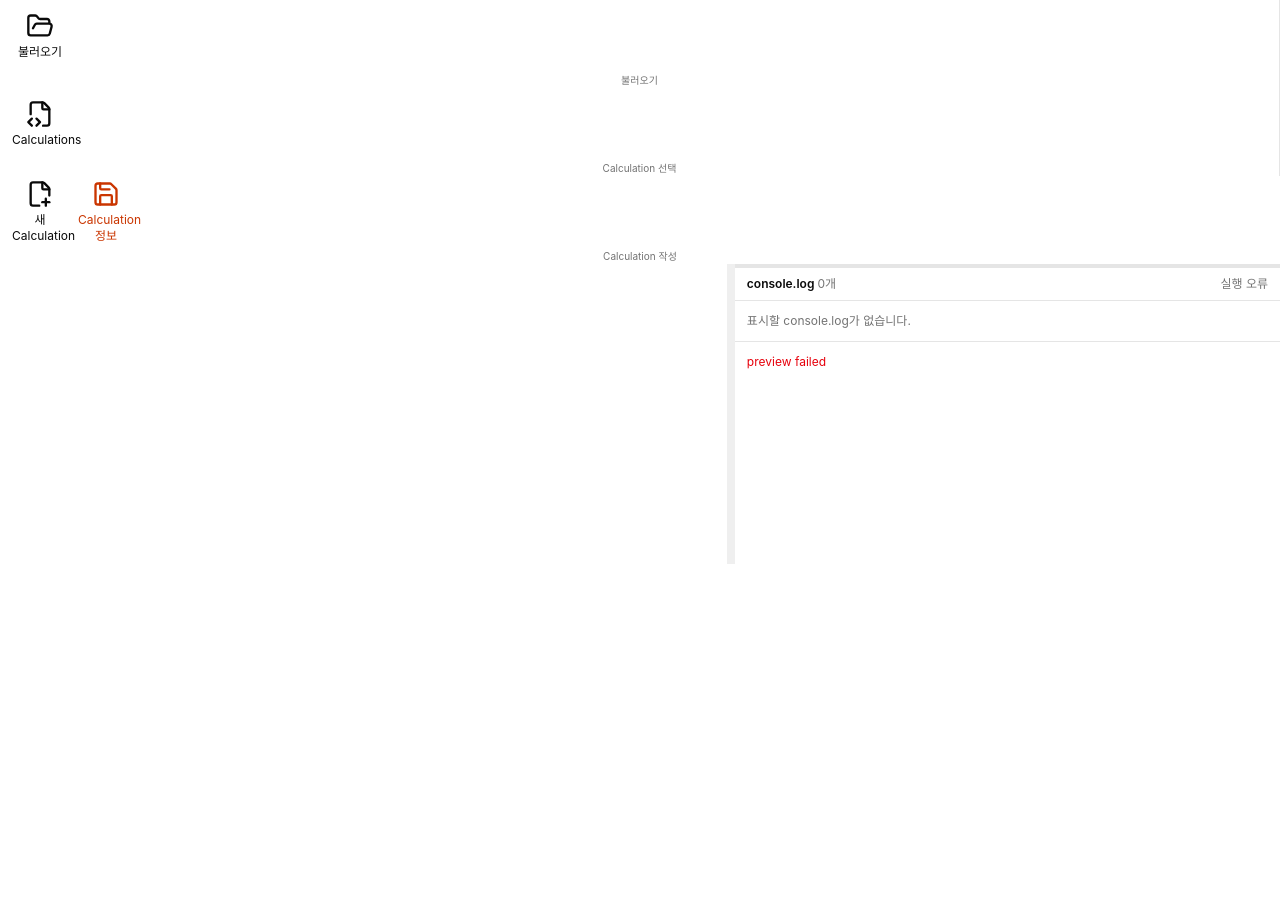
Test case: updates existing metadata without a successful preview and preserves form values on failure
Click the button "Calculation 정보" at (106, 212), box [74,176,138,248]
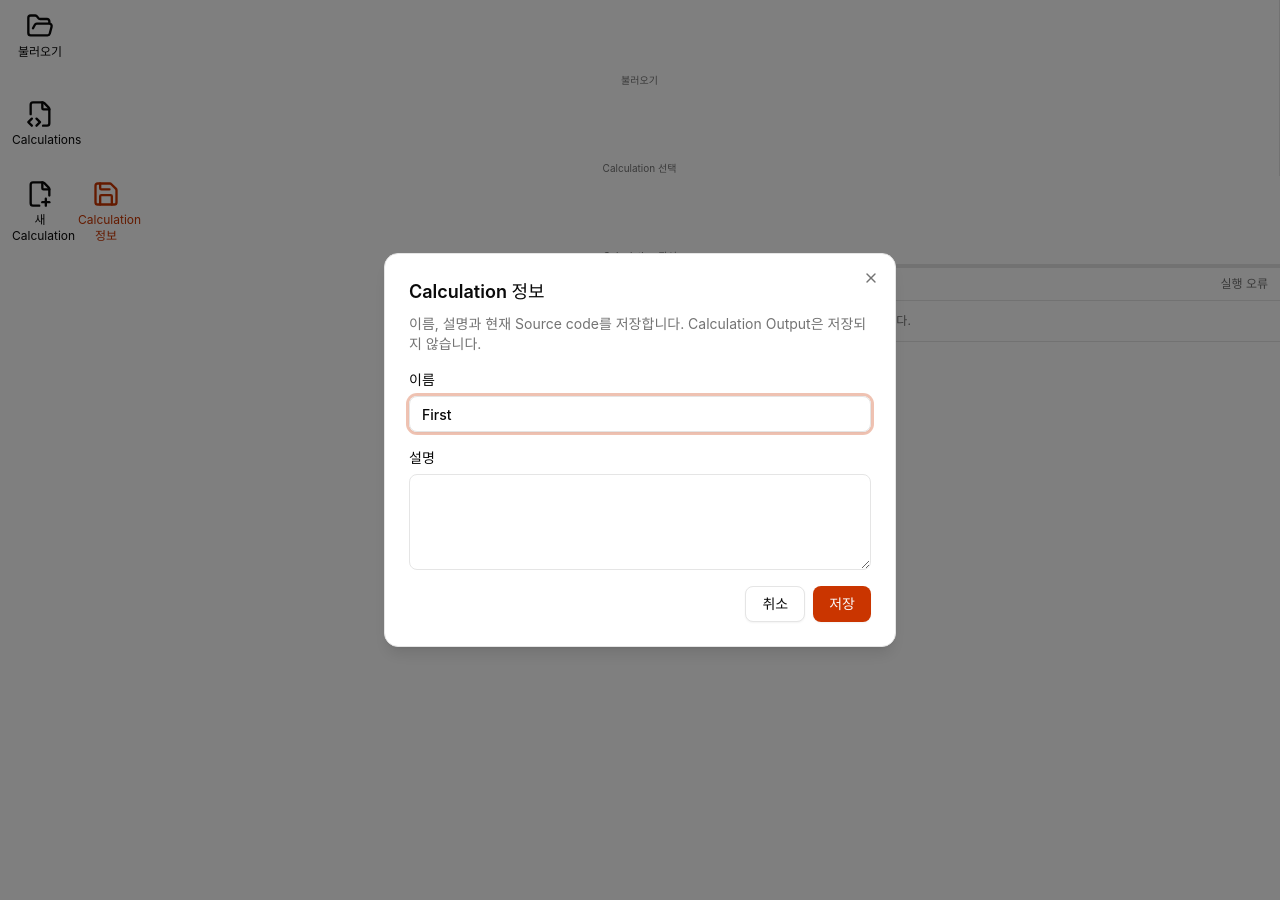
Check: the field labelled "이름" holds "First"
Replace the text in the field labelled "이름" with "Renamed" at (640, 414), box [409,396,871,432]
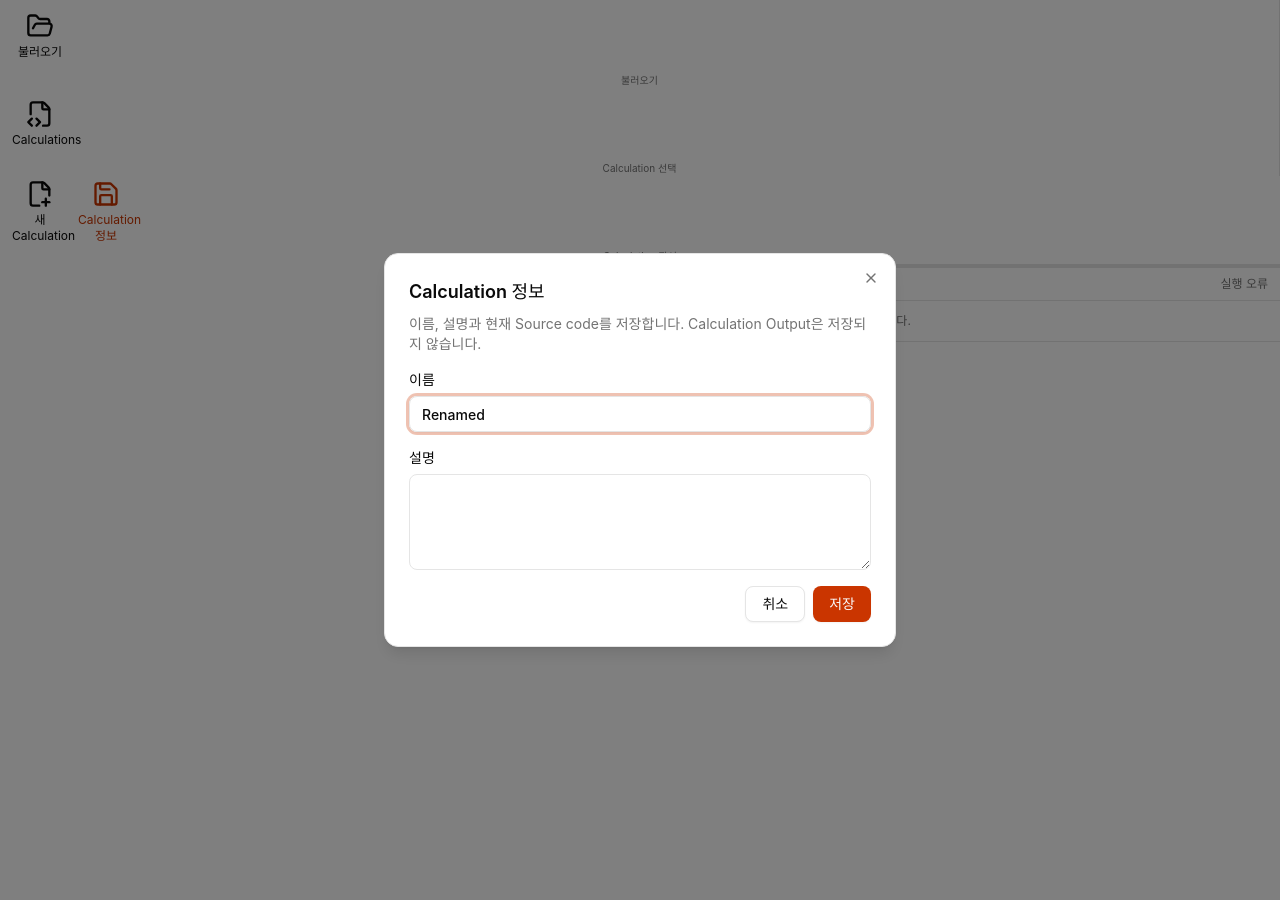
Type "Updated description" into the text box labelled "설명" at (640, 522), box [409,474,871,570]
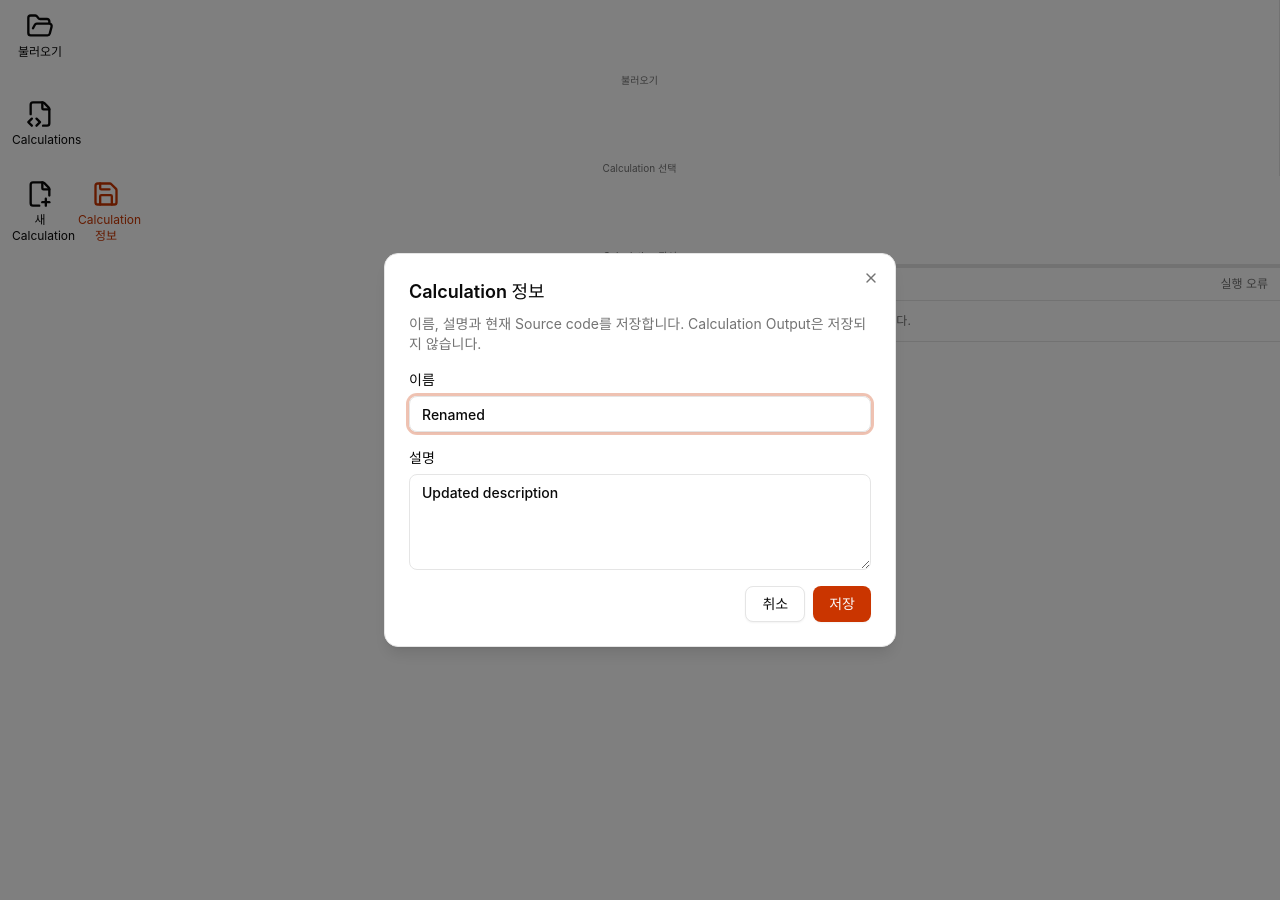
Click the button "저장" at (842, 604), box [813,586,871,622]
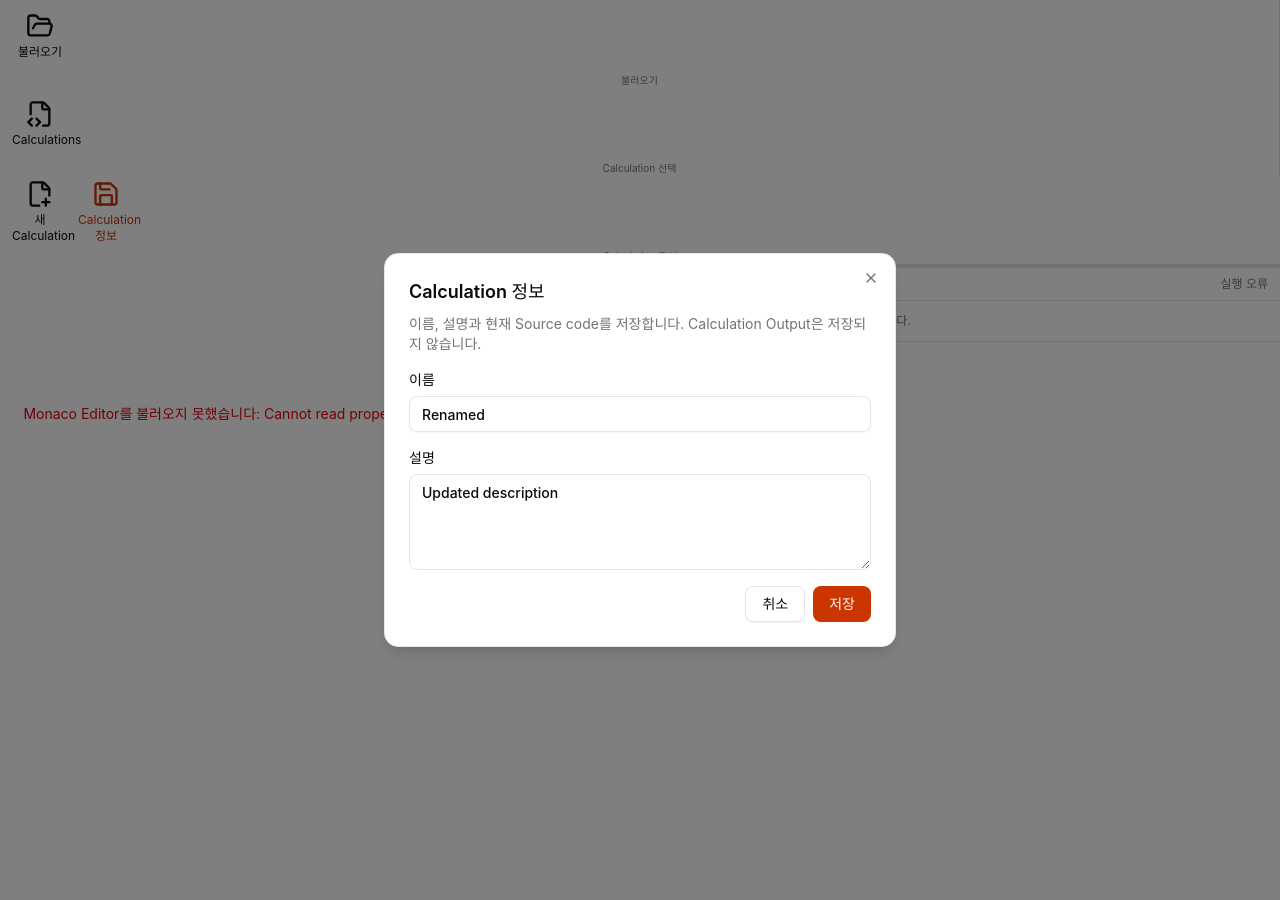
Check: the button "저장" is enabled
Click the button "저장" at (842, 604), box [813,586,871,622]
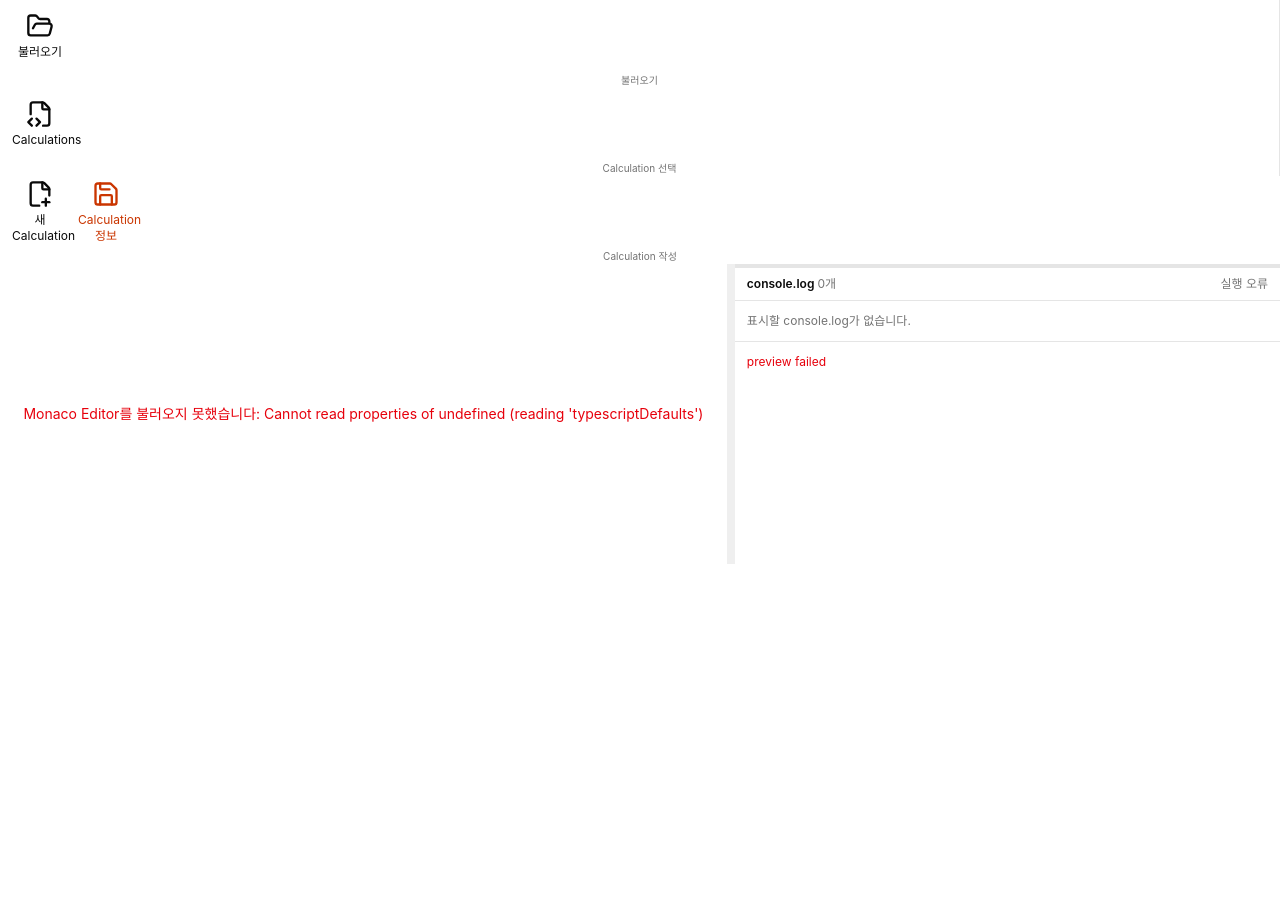
Check: the dialog is gone
